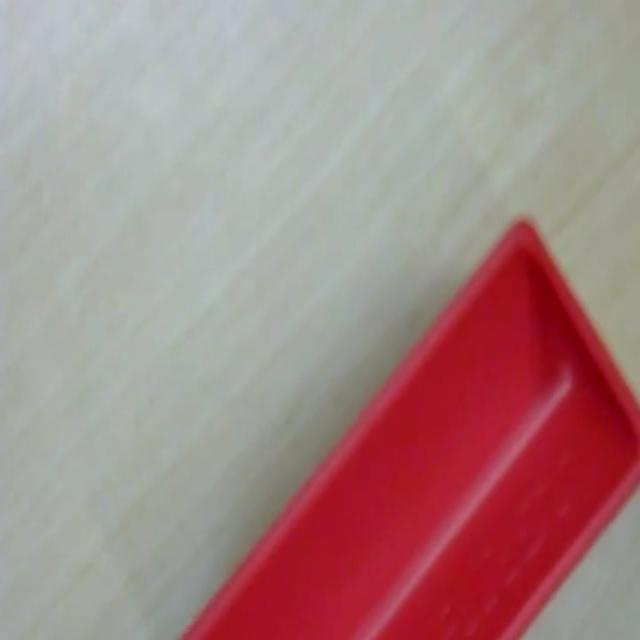red_block: (177, 212, 639, 637)
